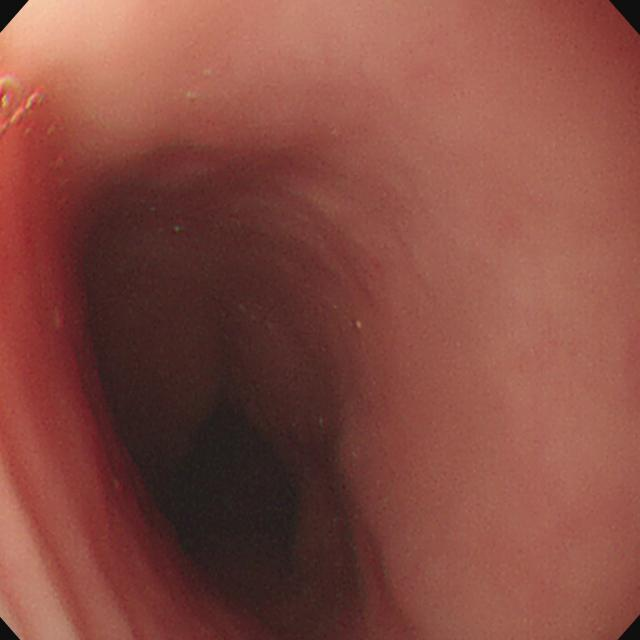E: (187, 448, 291, 570)
